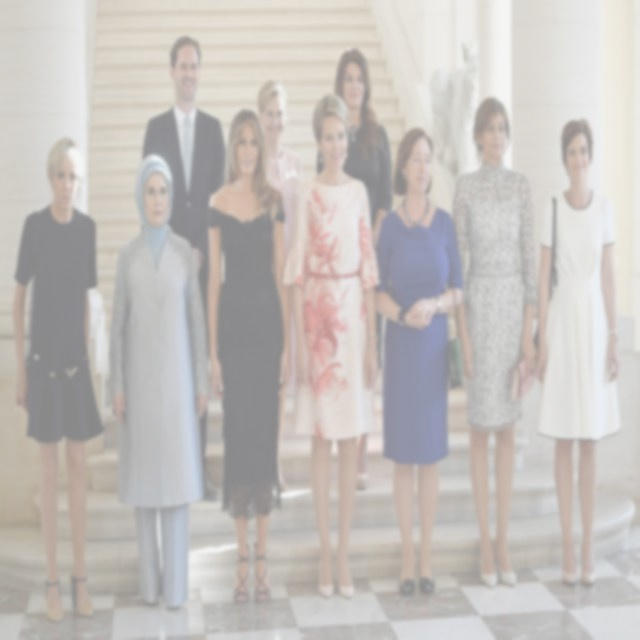pessoa: (279, 89, 383, 602), (8, 133, 106, 623), (107, 150, 209, 614), (447, 92, 540, 590), (533, 113, 626, 588), (205, 104, 292, 609), (373, 127, 464, 595), (140, 34, 228, 503), (314, 44, 394, 494), (256, 77, 303, 493)
